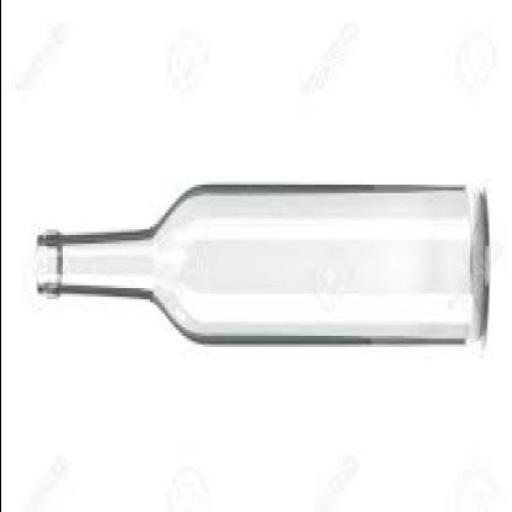glass: (34, 179, 484, 342)
